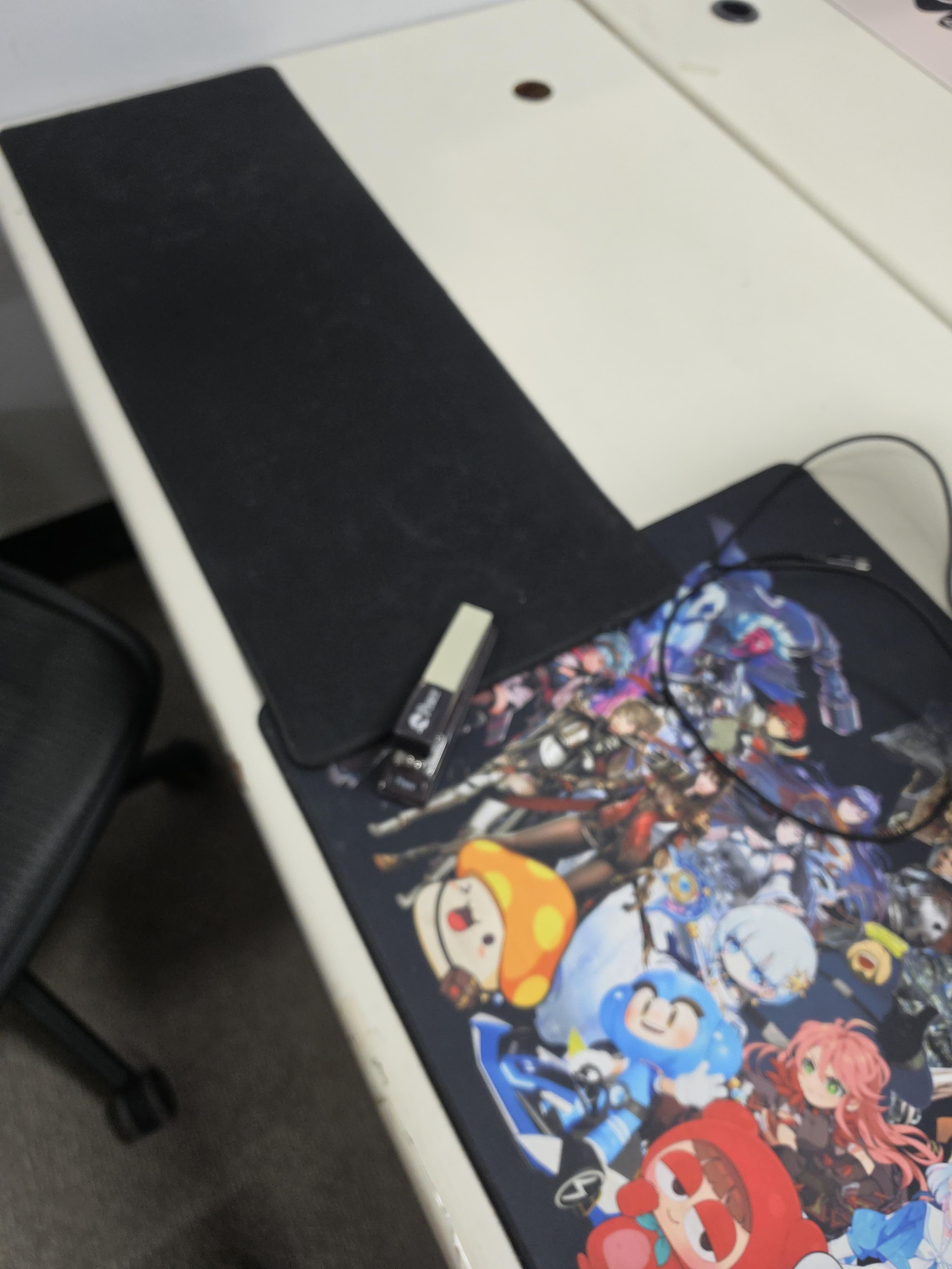stapler: (372, 601, 498, 807)
